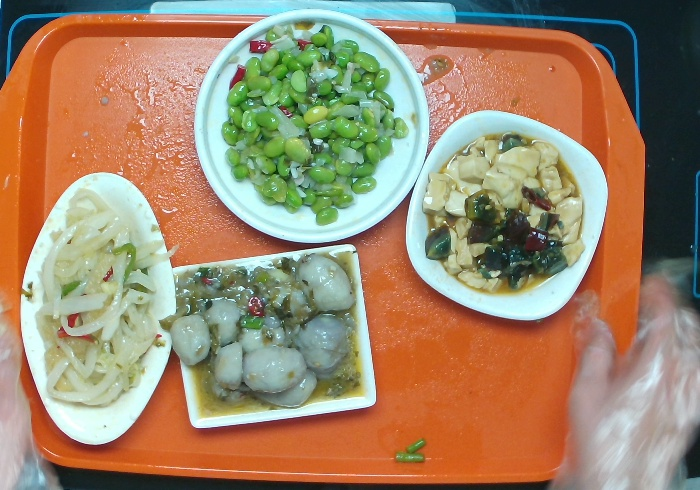HZYJPL-Si_Fang_Die: (167, 243, 377, 431)
HZYJPL-Si_Fang_Yuan_Die: (405, 105, 609, 325)
HZYJPL-Xiao_Yu_Die: (17, 170, 174, 447)
HZYJPL-Xiao_Yuan_Die: (195, 7, 432, 247)
